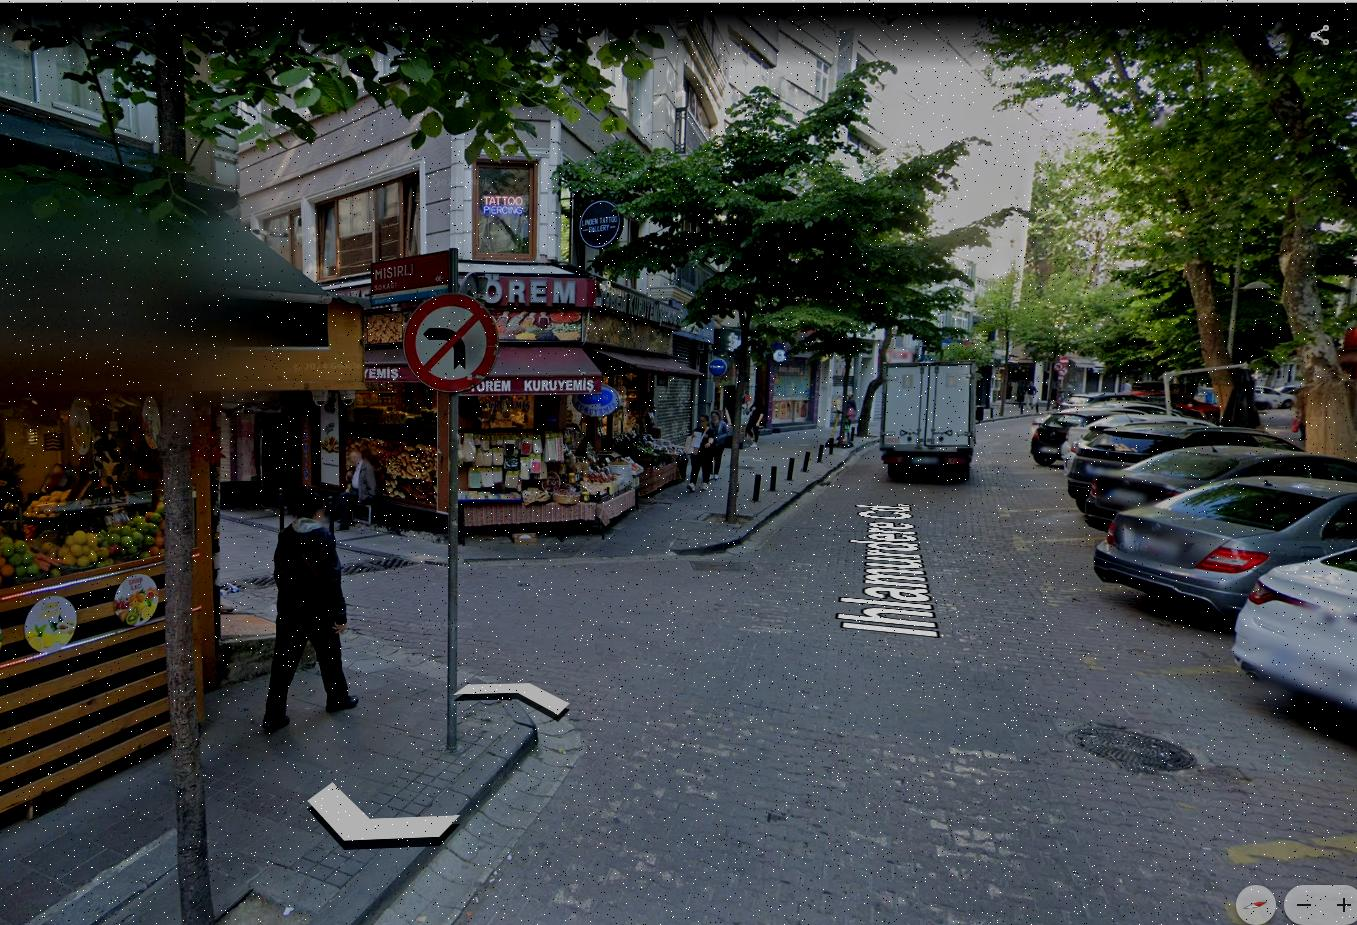leftturnsareforbidden: (403, 298, 493, 391)
